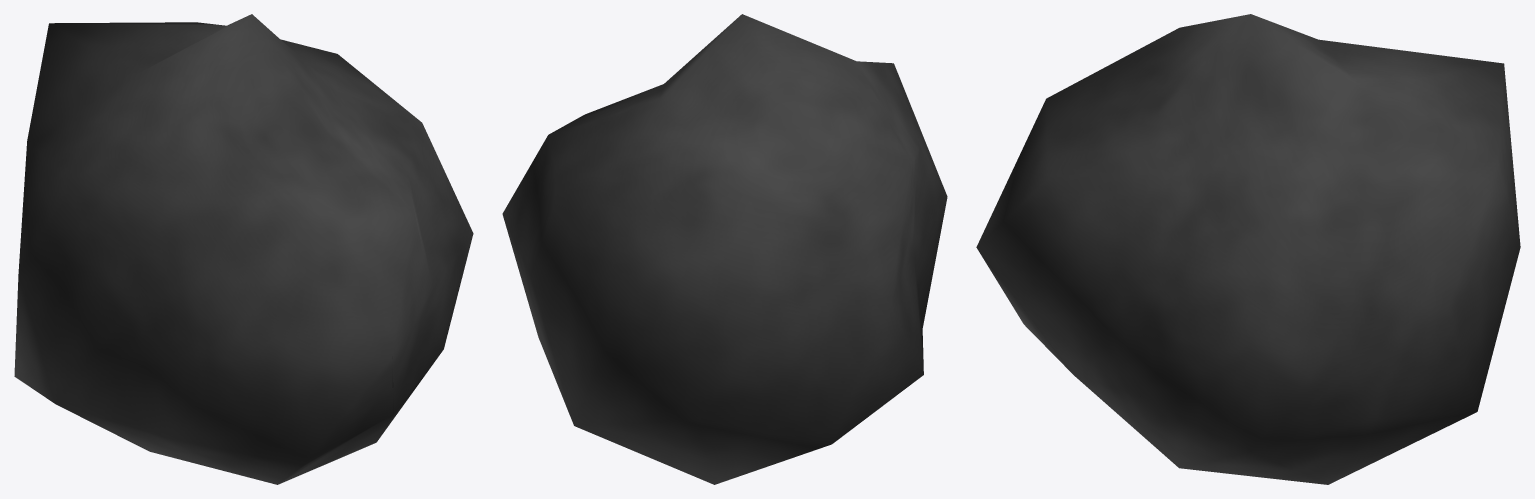
File: RockBig1.fbx
3 views of the same model, side by side, from view 1: azimuth 30°, elevation 25°; view 2: azimuth 150°, elevation 25°; view 3: azimuth 270°, elevation 25° (orthographic). The views are drawn at different scales.
Parts seen in each view (by area): view 1: RockBig1; view 2: RockBig1; view 3: RockBig1.
Boxes of the visible parts, bbox=[...] form: RockBig1: bbox=[14, 14, 473, 484]; RockBig1: bbox=[502, 14, 947, 484]; RockBig1: bbox=[976, 14, 1520, 484].
Size of the model in its own units: 321 by 332 by 374.
Materials: 1 (1 with a texture image).
